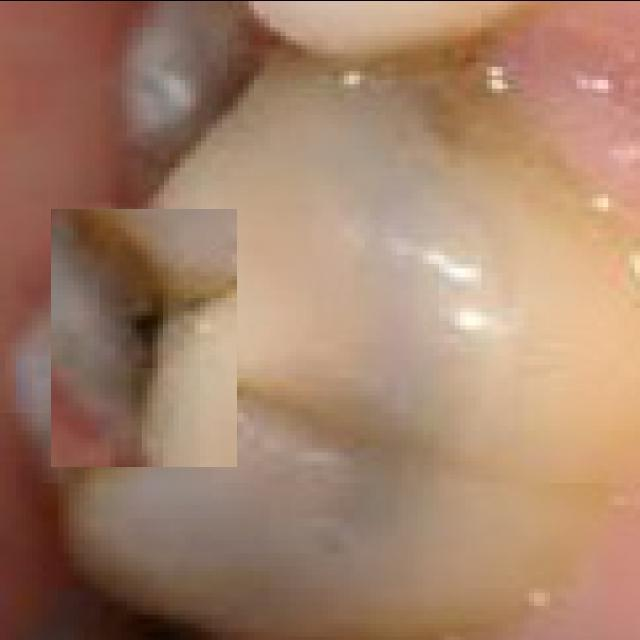caries: (52, 208, 238, 466)
